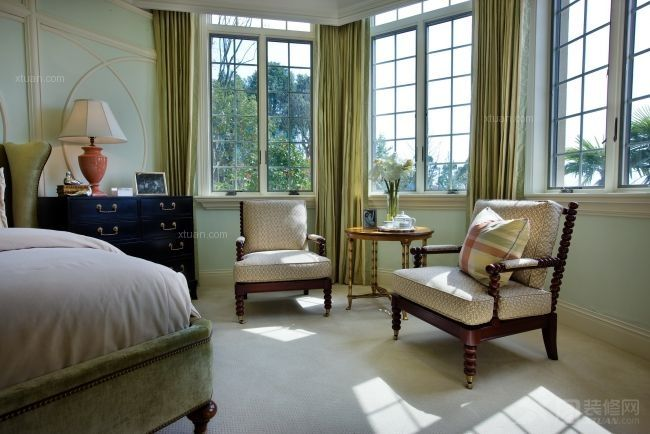床: (0, 231, 194, 404)
枕头: (460, 204, 531, 297)
灯: (55, 91, 122, 200)
